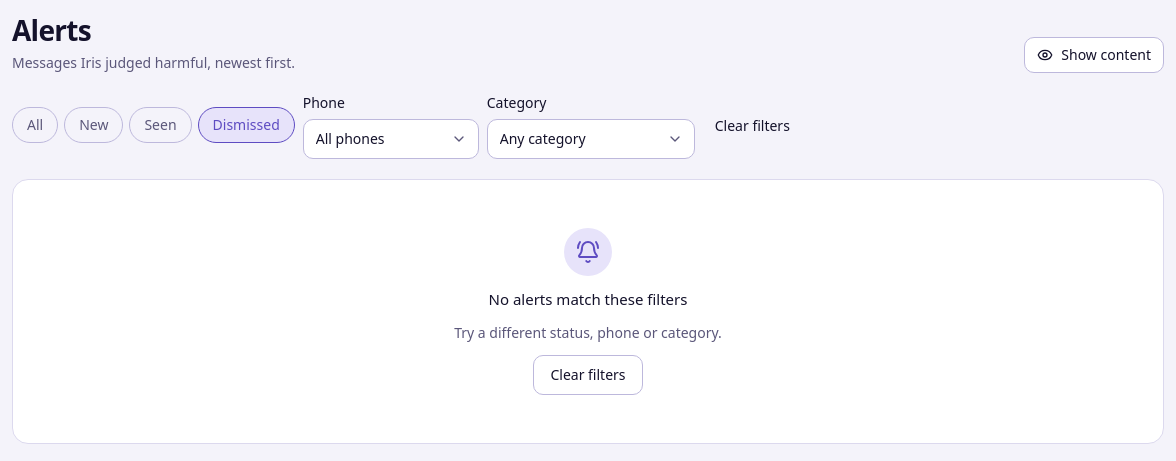
Test case: with filters applied the empty state offers to clear them
expect the text "No alerts match these filters" is shown: met, box [488,288,687,311]
Click the 1st button "Clear filters" at point(752, 126), box [703,108,802,144]
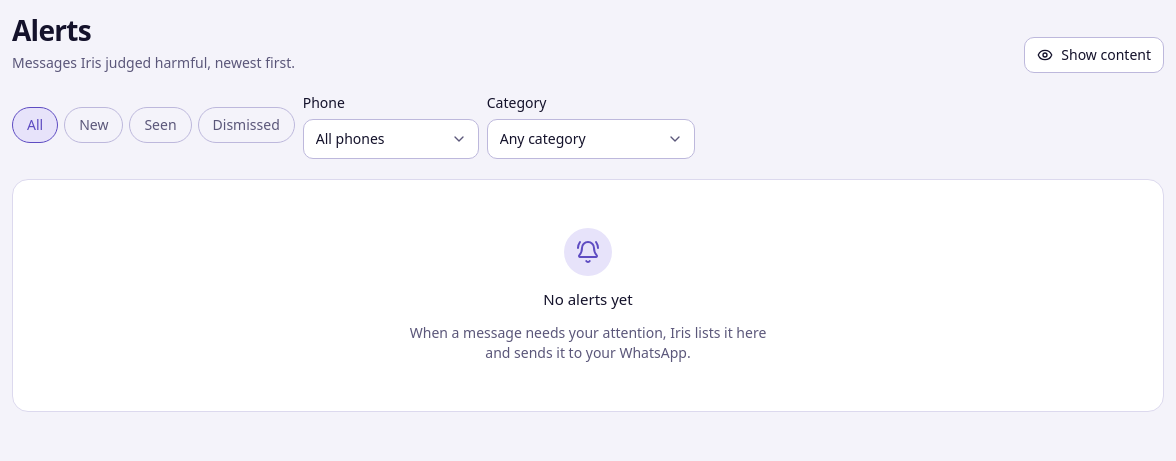
expect the text "No alerts yet" is shown: met, box [543,288,633,311]
